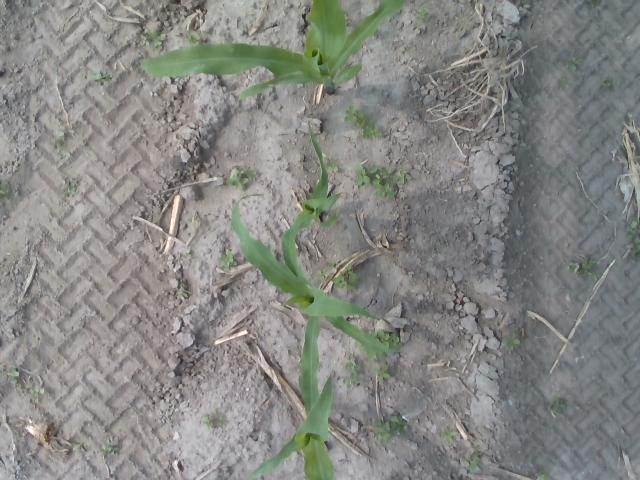Maize: (230, 192, 402, 354), (140, 1, 406, 100), (249, 318, 400, 480), (280, 120, 343, 280)
Weeds: (345, 105, 381, 139), (354, 168, 388, 185), (626, 221, 640, 260), (569, 257, 592, 276), (51, 130, 65, 159), (372, 362, 390, 382), (226, 174, 248, 188), (504, 331, 520, 350), (467, 452, 482, 472), (150, 31, 166, 49), (28, 386, 44, 404), (342, 373, 362, 387), (94, 70, 110, 84), (444, 428, 458, 444), (391, 414, 405, 430), (342, 268, 358, 282), (396, 170, 412, 184), (102, 442, 118, 456), (376, 184, 394, 196), (8, 366, 19, 384), (242, 166, 256, 180), (376, 420, 391, 433), (218, 255, 233, 266), (72, 442, 88, 452), (602, 78, 618, 88), (570, 57, 582, 70), (416, 6, 428, 18), (203, 416, 215, 428), (378, 329, 391, 340), (558, 77, 568, 90), (332, 276, 345, 286), (66, 182, 76, 194), (188, 33, 200, 43), (323, 262, 332, 275), (180, 287, 190, 298), (344, 361, 356, 370), (218, 415, 226, 427), (1, 185, 10, 195), (314, 272, 324, 281), (140, 35, 148, 46), (328, 165, 338, 172)
